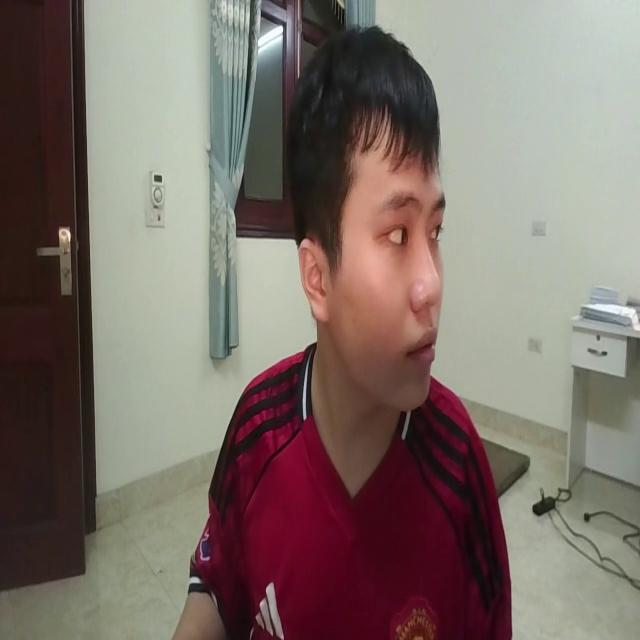student: (178, 18, 510, 640)
